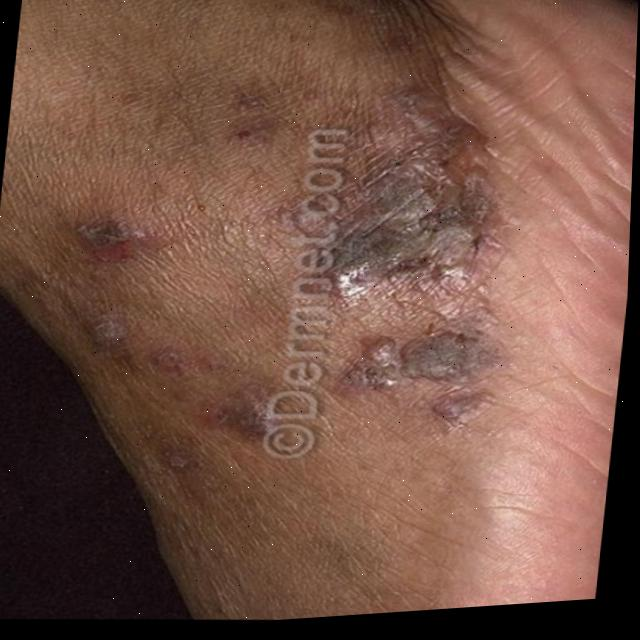Eczema: (58, 0, 548, 474)
